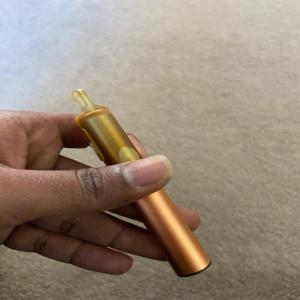Golden-E-Ciggirate: (56, 80, 223, 289)
